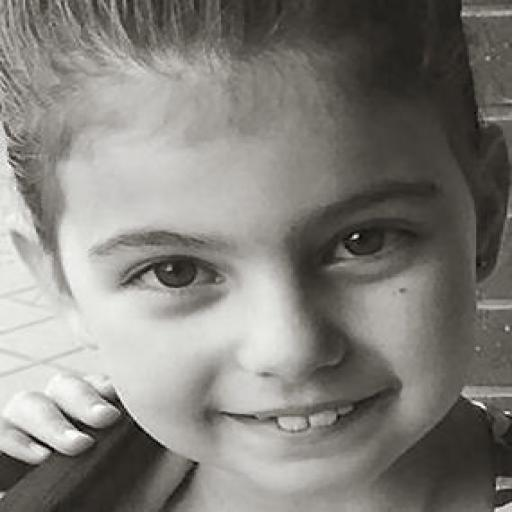Autism: (6, 2, 512, 504)
